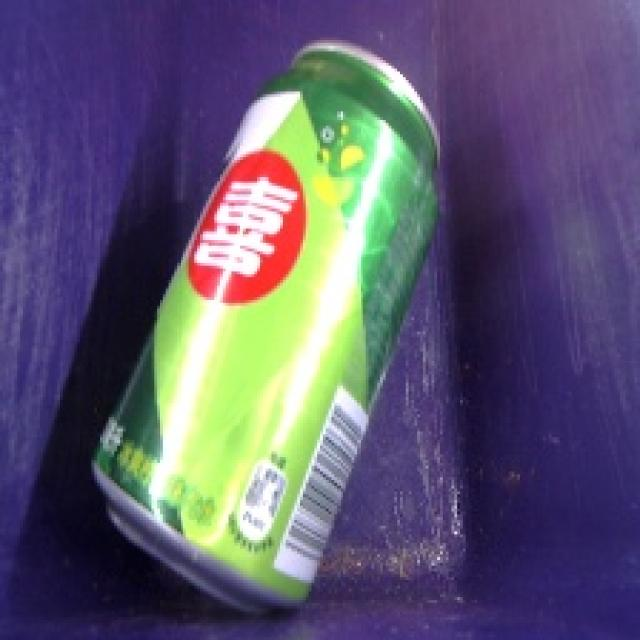metal: (68, 25, 459, 625)
